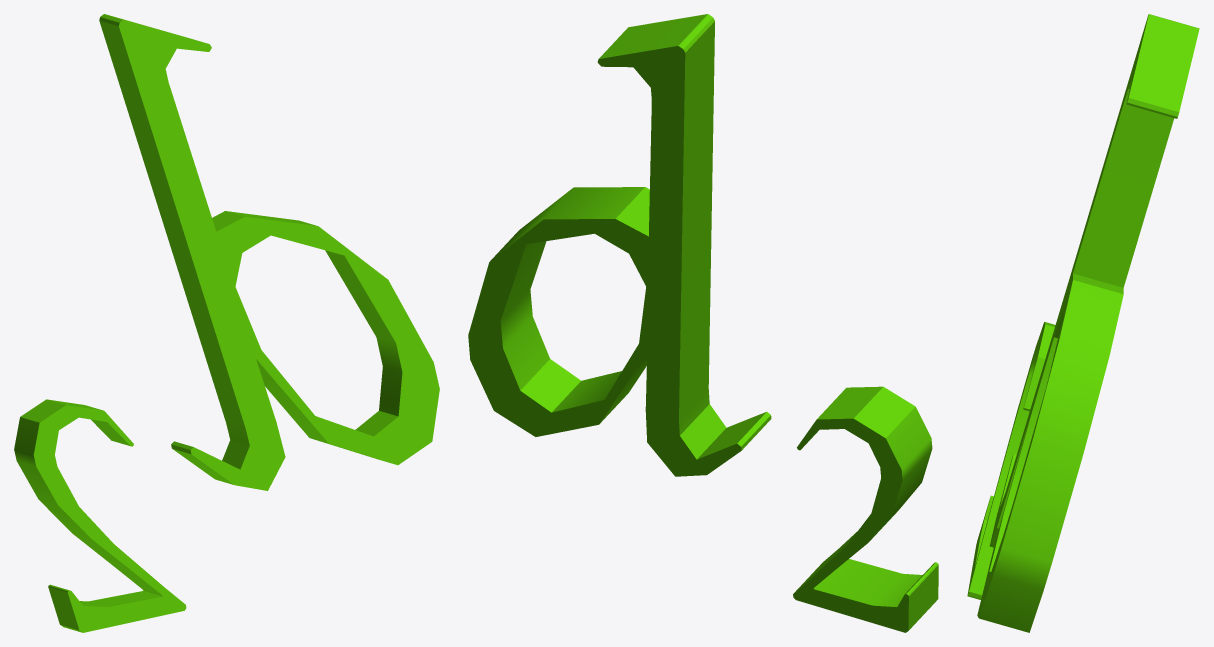
File: d2_formula_B.fbx
3 renders of one model, left to right at view 1: azimuth 30°, elevation 25°; view 2: azimuth 150°, elevation 25°; view 3: azimuth 270°, elevation 25°, orthographic. The views are drawn at different scales.
Visible parts, largest first — view 1: d2_formula_B; view 2: d2_formula_B; view 3: d2_formula_B.
Boxes of the visible parts, bbox=[...] form: d2_formula_B: bbox=[14, 14, 439, 632]; d2_formula_B: bbox=[468, 14, 938, 632]; d2_formula_B: bbox=[967, 14, 1199, 632].
Bounding box in the file's own units: 4.33 × 5.72 × 1.98.
